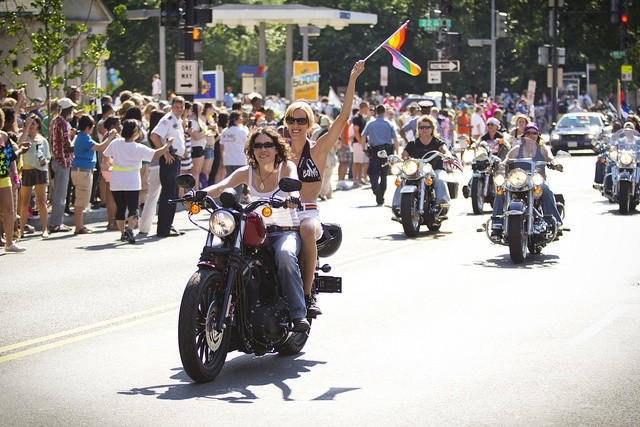non-vehicle: (167, 173, 341, 382), (476, 136, 570, 263), (376, 149, 462, 236), (463, 137, 512, 214), (602, 127, 639, 214), (590, 142, 615, 202)
